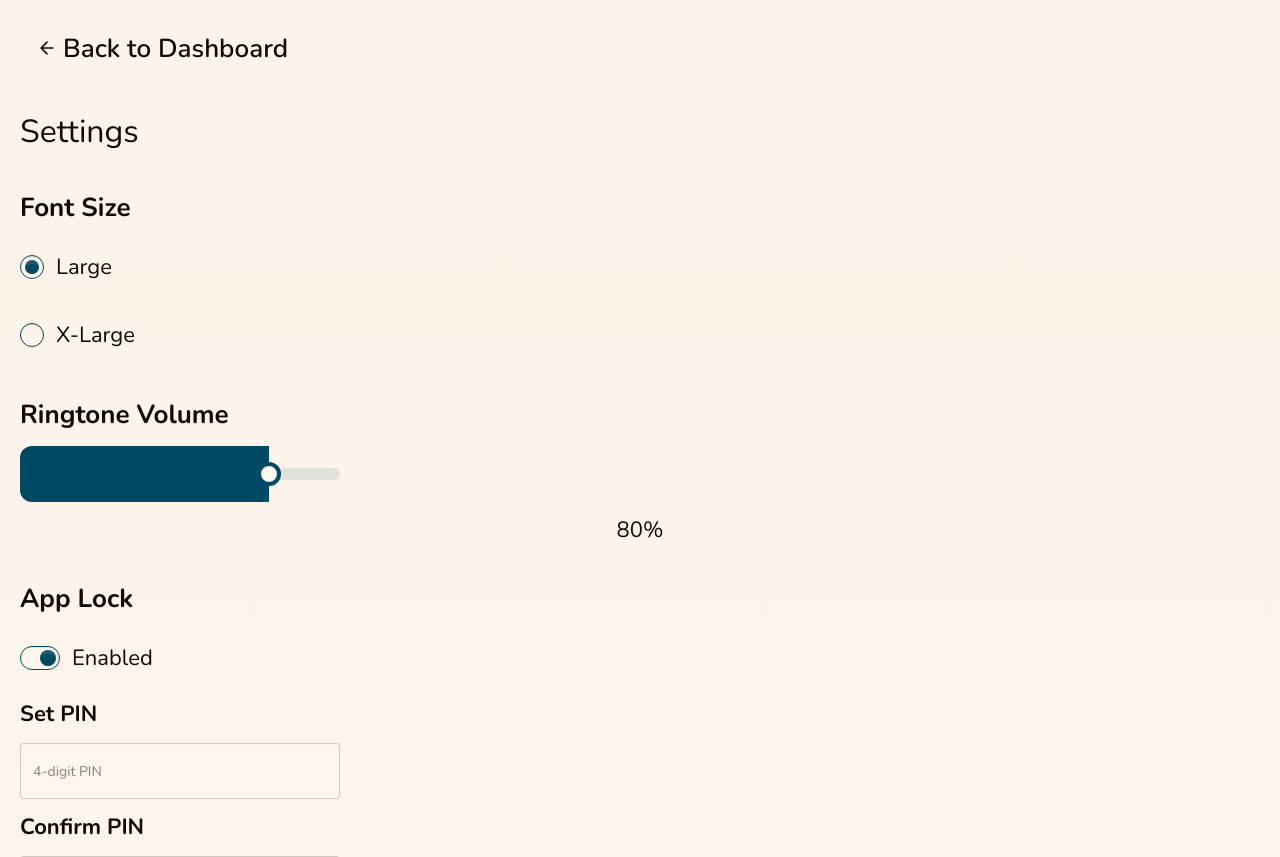
Test: ElderlyUserSettings › PIN validation: non-4-digit input shows error
Type "12" into the password field labelled "Set PIN" at (180, 771), box [20, 743, 340, 799]
(page scrolled)
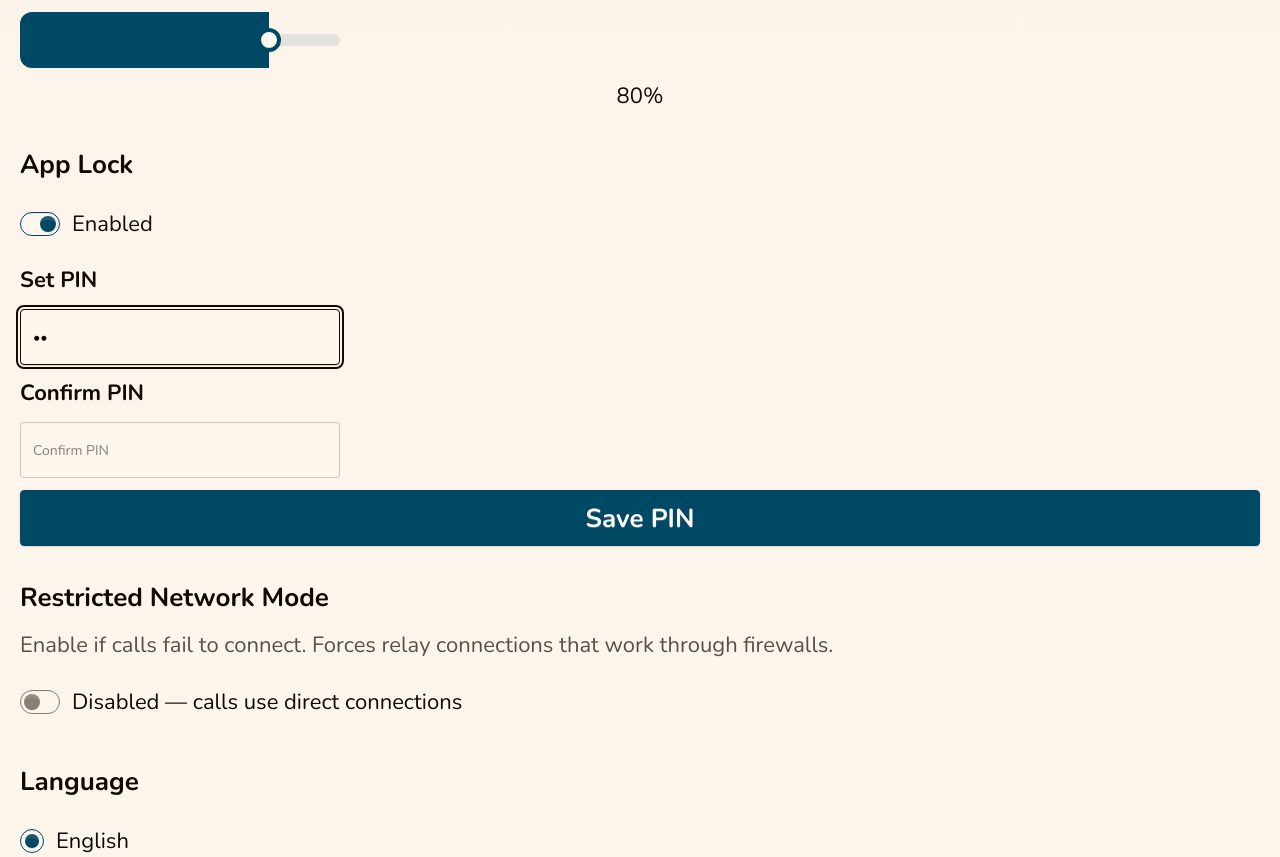
Type "12" into the password field labelled "Confirm PIN" at (180, 450), box [20, 422, 340, 478]
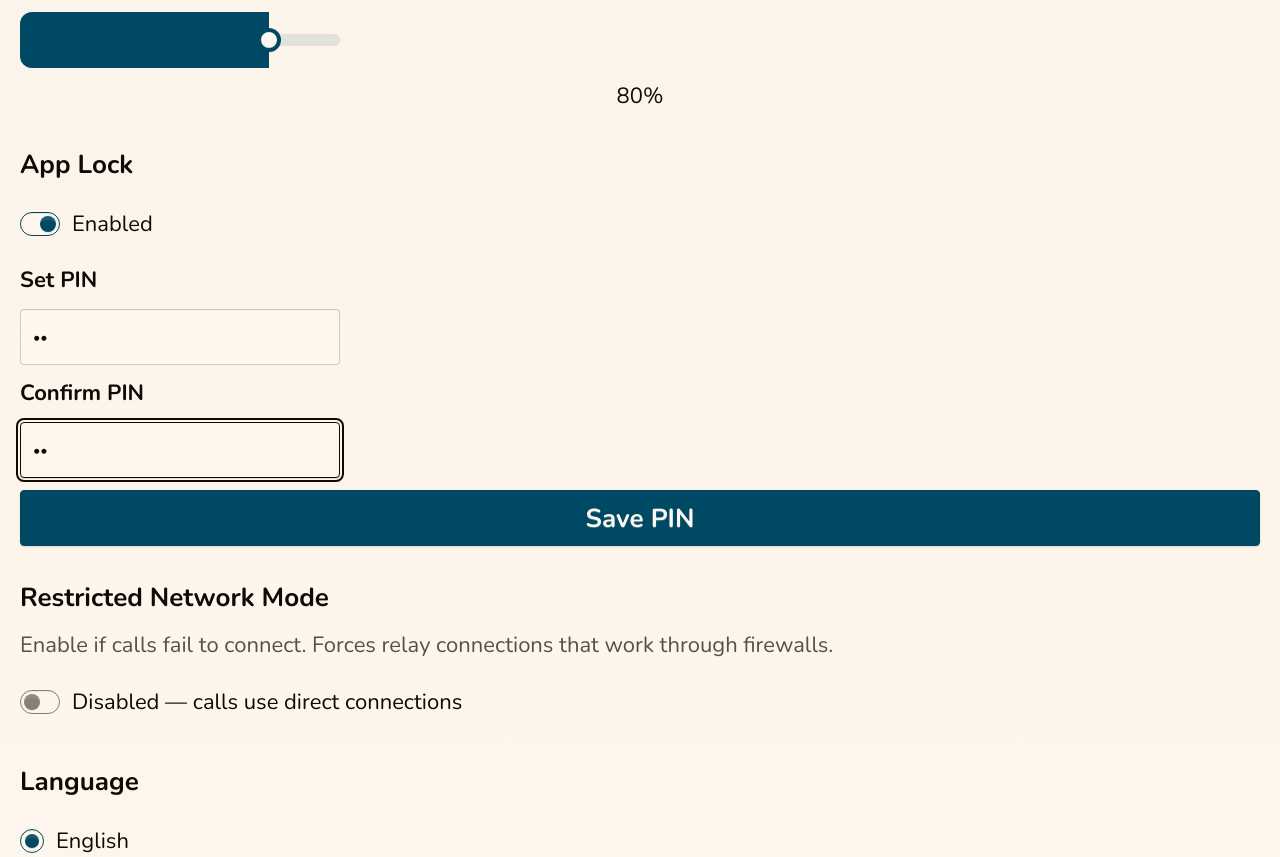
Click the button "Save PIN" at (640, 518), box [20, 490, 1260, 546]
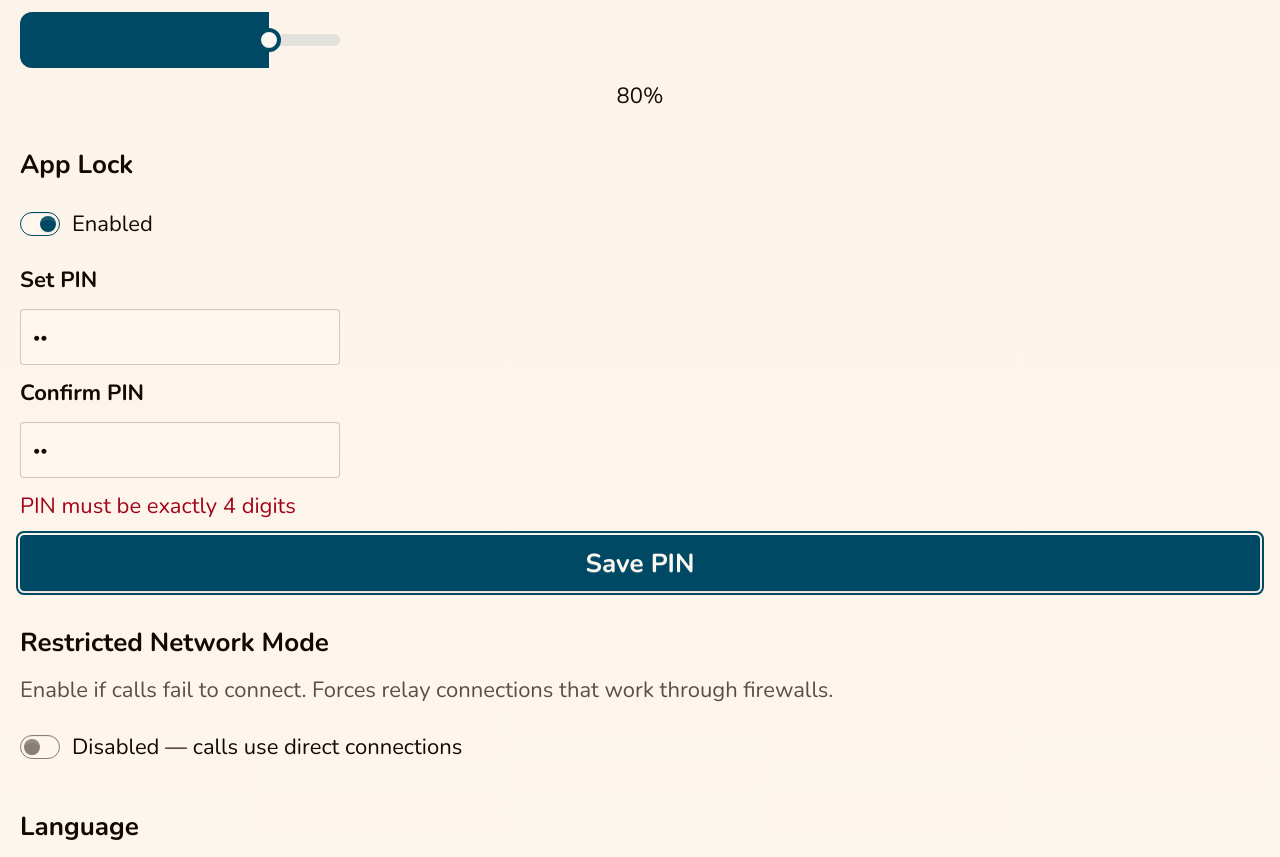
Expected: the message shows "exactly 4 digits", [20, 491, 296, 521]
